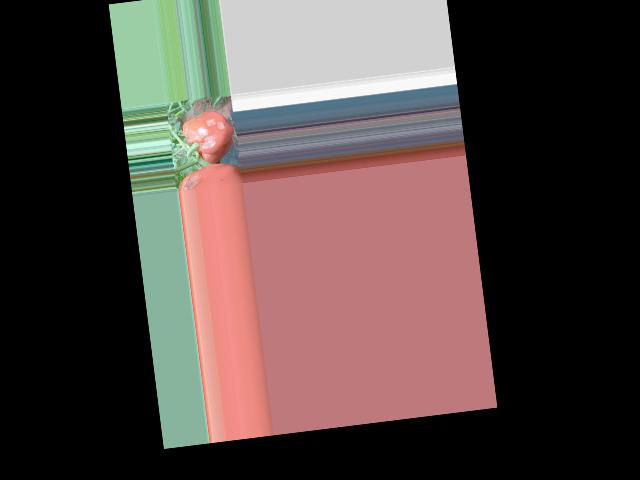bell_pepper: (176, 110, 240, 165)
